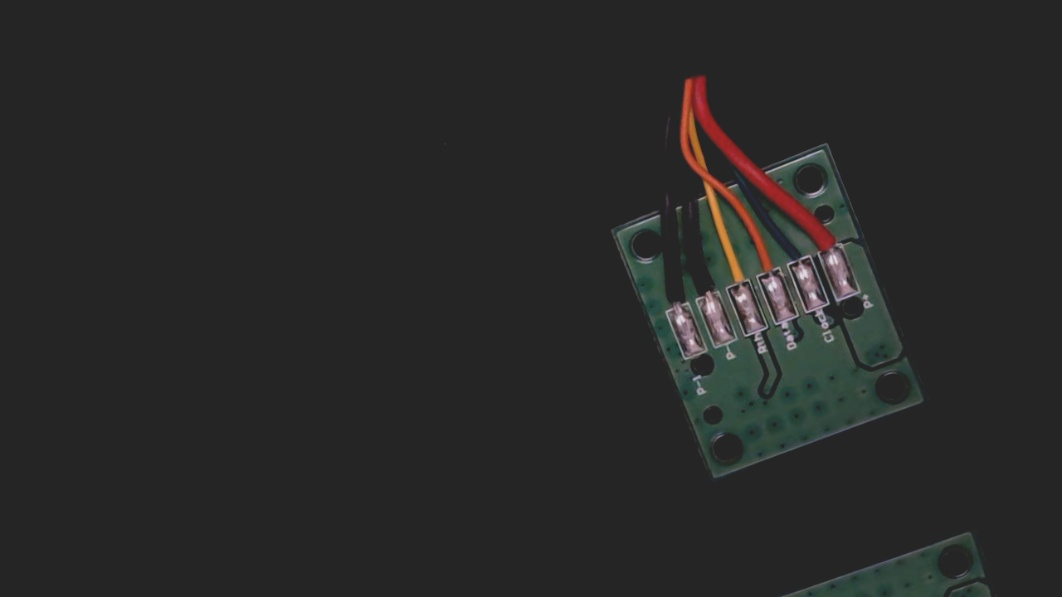Black: (683, 251, 726, 312)
Black1: (650, 264, 694, 326)
Green: (775, 221, 818, 279)
Orange: (746, 237, 785, 291)
Red: (806, 209, 848, 266)
Yellow: (715, 242, 756, 303)
